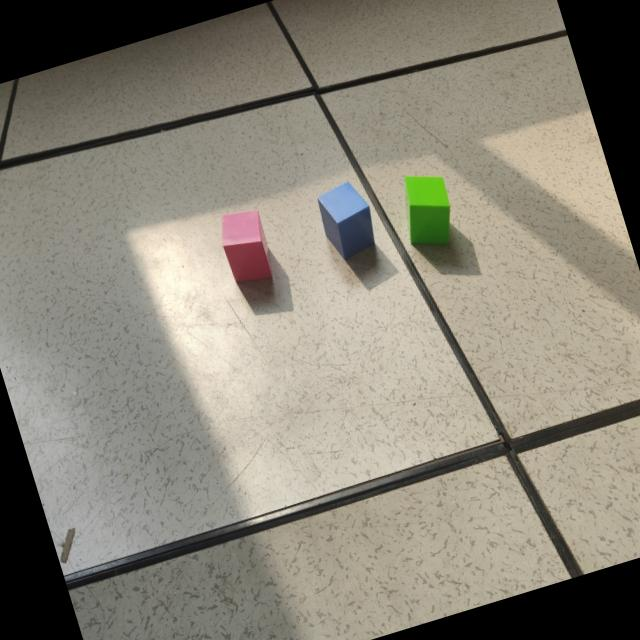blue: (317, 175, 376, 259)
green: (402, 173, 452, 250)
pink: (218, 202, 272, 281)
